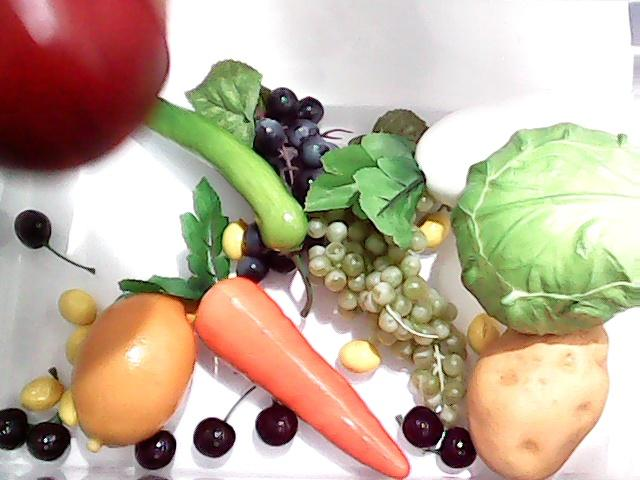apple: (0, 0, 168, 172)
cabbage: (444, 116, 640, 348)
carrot: (115, 174, 412, 480)
grape: (305, 215, 471, 433), (236, 77, 324, 284)
lemon: (68, 288, 198, 456)
pepper: (113, 77, 314, 251)
potato: (463, 320, 612, 480)
radish: (304, 92, 640, 256)
